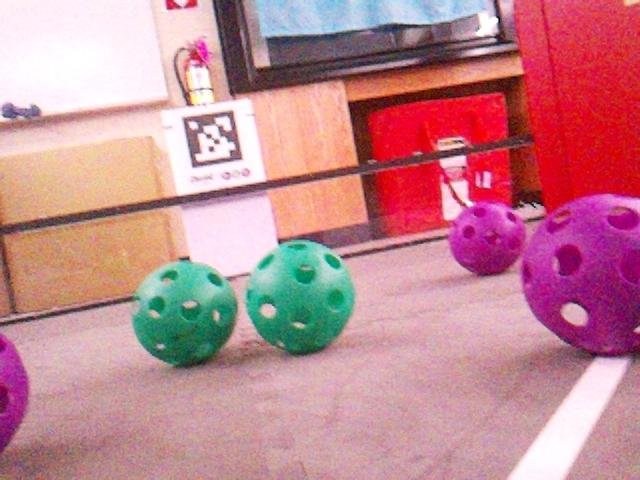Green: (242, 239, 356, 353), (132, 261, 239, 366)
Purple: (520, 195, 640, 353), (448, 200, 527, 276), (0, 331, 30, 460)
